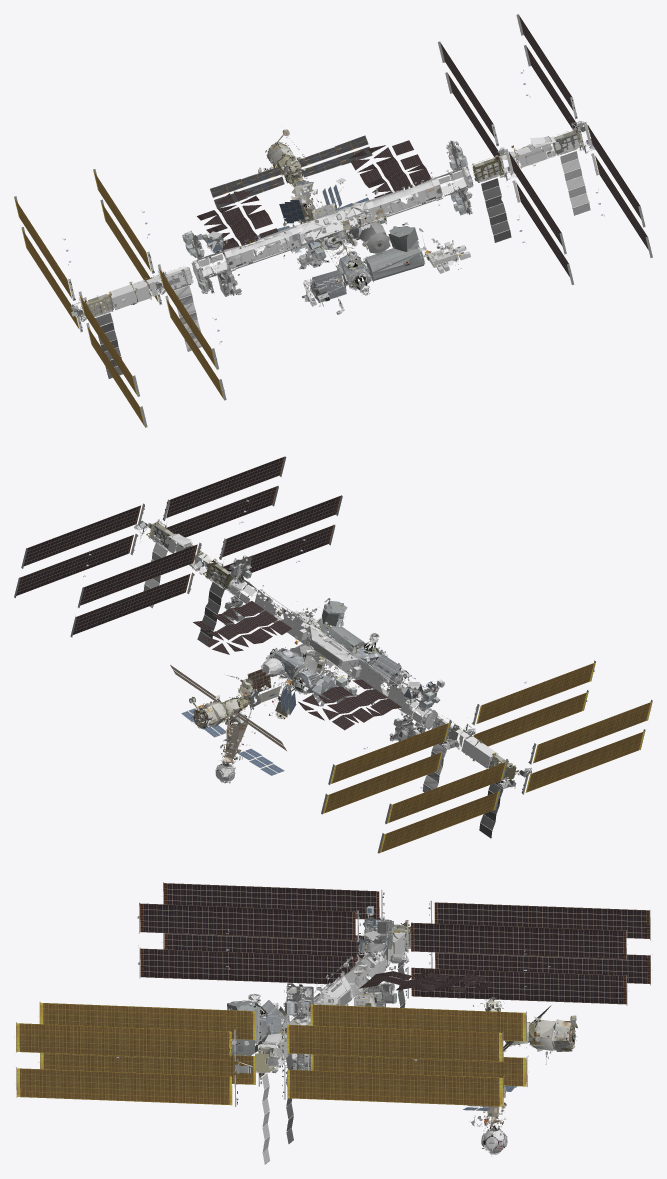
The model's file is iss.glb.
3 renders of one model, top to bottom at view 1: azimuth 30°, elevation 25°; view 2: azimuth 150°, elevation 25°; view 3: azimuth 270°, elevation 25°, orthographic. The views are drawn at different scales.
Parts seen in each view (by area): view 1: ISS; view 2: ISS; view 3: ISS.
Part boxes in pixels (<box>): ISS: <box>14,14,652,427</box>; ISS: <box>14,456,652,853</box>; ISS: <box>14,882,652,1164</box>.
Bounding box in the file's own units: 110 × 44.45 × 92.2.
59 materials, 54 textured.
